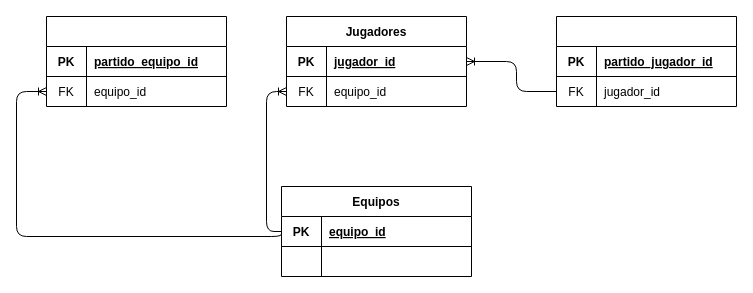
The diagram is 753 pixels wide and 293 high, and some of its shapes have lost their labels. The box of each missing label's shape, as (x1, y1, x2, y2) in pixels:
PartidosEquipo: (46, 16, 226, 106)
PartidosJugador: (556, 16, 736, 106)
